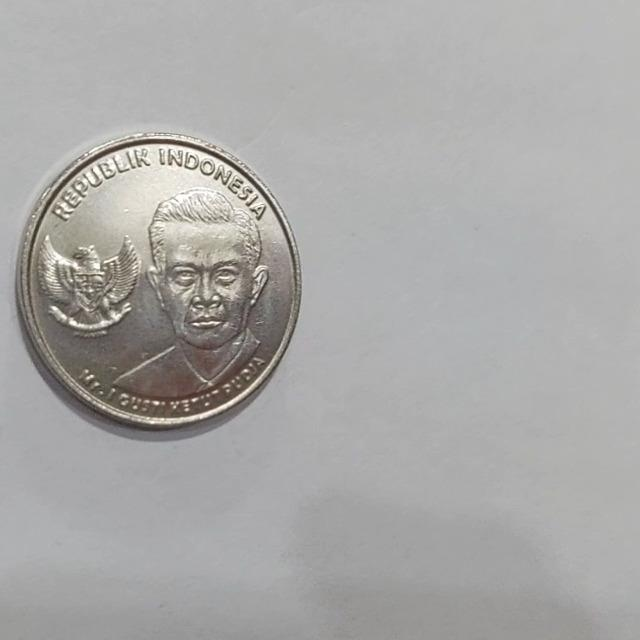Rp100: (14, 129, 303, 431), (107, 186, 272, 400)
